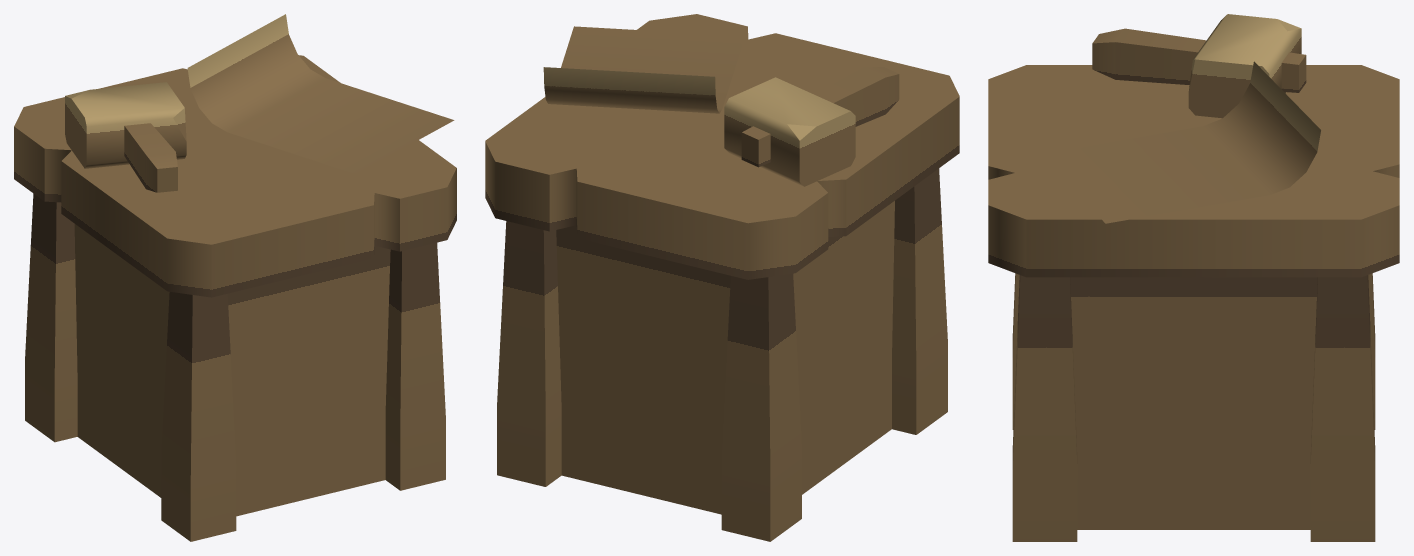
Rendered from workbench-narrow-bench.glb.
The picture shows the model from 3 angles, left to right: view 1: azimuth 30°, elevation 25°; view 2: azimuth 150°, elevation 25°; view 3: azimuth 270°, elevation 25°; orthographic projection. The views are drawn at different scales.
Visible parts, largest first — view 1: workbench-narrow-bench runtime mesh; view 2: workbench-narrow-bench runtime mesh; view 3: workbench-narrow-bench runtime mesh.
Part boxes in pixels (x1,y1,x2,y2): workbench-narrow-bench runtime mesh: (14,14,456,541); workbench-narrow-bench runtime mesh: (485,14,959,541); workbench-narrow-bench runtime mesh: (988,14,1399,541).
Size of the model in its own units: 0.784 by 0.85 by 0.7892.
3 materials, 3 textured.
